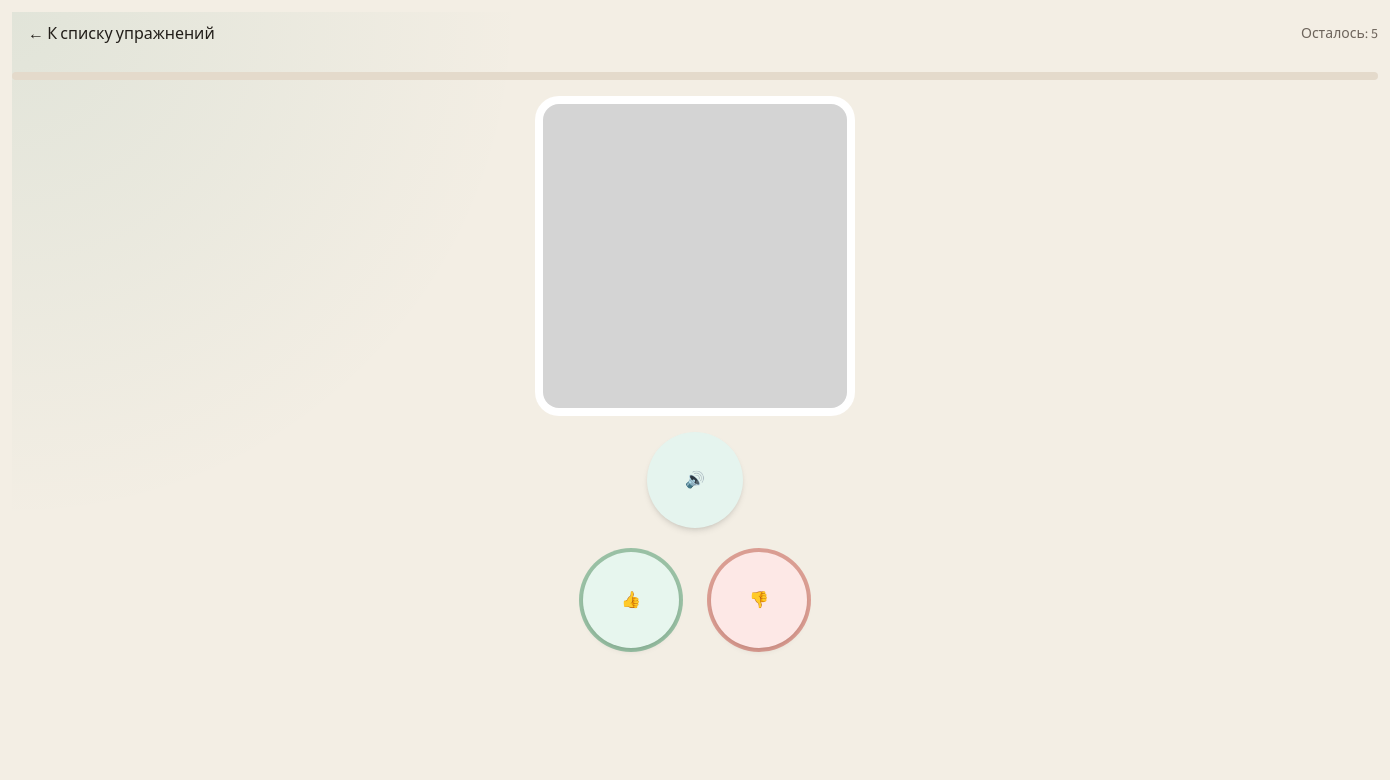
Test case: picture exercises render and accept an answer › true_false
The width and height of the screenshot is (1390, 780).
Step 1. Click the button named "Да, правильно" → (631, 600), box [583, 552, 679, 648]
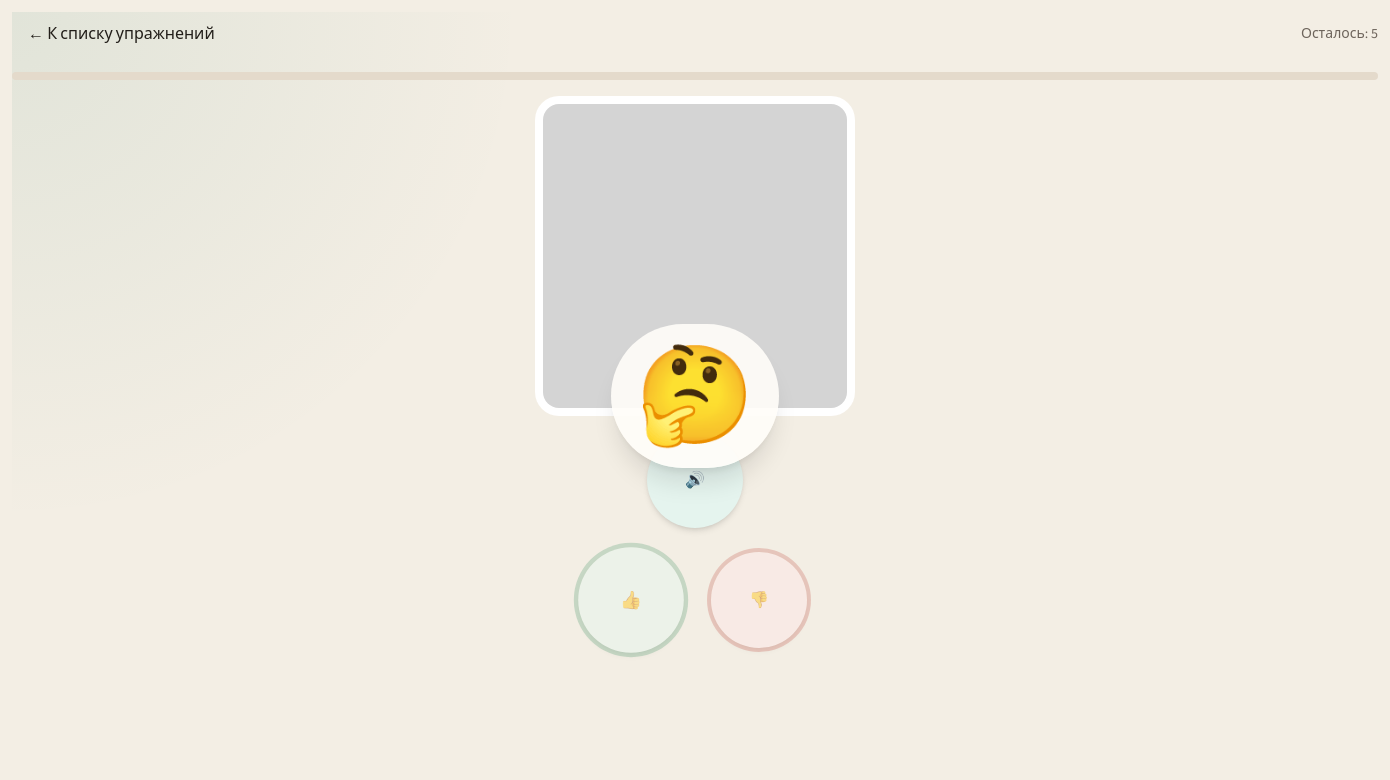
Expected: the picture "🤔" is shown, [611, 324, 779, 468]
